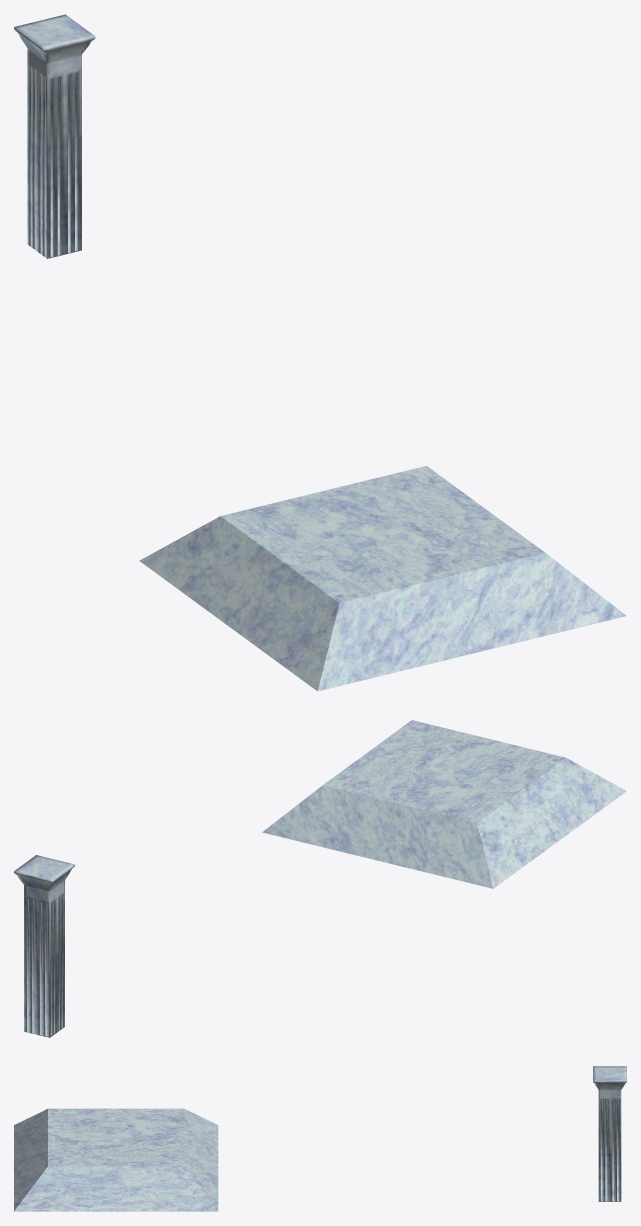
The model's file is museum.glb.
The picture shows the model from 3 angles, top to bottom: view 1: azimuth 30°, elevation 25°; view 2: azimuth 150°, elevation 25°; view 3: azimuth 270°, elevation 25°; orthographic projection. The views are drawn at different scales.
Visible parts, largest first — view 1: MarbleStand, Greek_Doric; view 2: MarbleStand, Greek_Doric; view 3: MarbleStand, Greek_Doric.
Boxes of the visible parts, left/top/right/bottom form: MarbleStand: left=139, top=466, right=626, bottom=691; Greek_Doric: left=14, top=14, right=95, bottom=258; MarbleStand: left=262, top=720, right=626, bottom=888; Greek_Doric: left=14, top=855, right=74, bottom=1037; MarbleStand: left=14, top=1108, right=218, bottom=1211; Greek_Doric: left=593, top=1066, right=626, bottom=1201.
Size of what is drawn, in the model's own units: 7.68 by 5.12 by 23.04.
2 materials, 2 textured.
